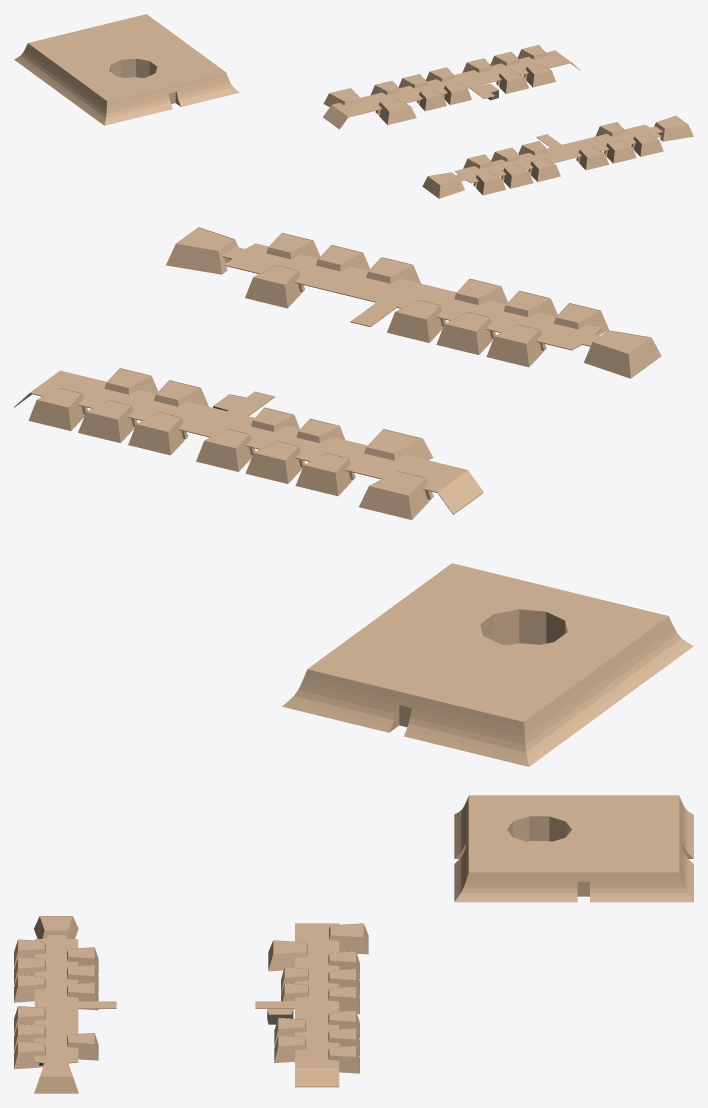
The model's file is amphis to village.gltf.
3 views of the same model, one above another, from view 1: azimuth 30°, elevation 25°; view 2: azimuth 150°, elevation 25°; view 3: azimuth 270°, elevation 25° (orthographic). The views are drawn at different scales.
Parts seen in each view (by area): view 1: village, amphiA-L, amphiM-X; view 2: village, amphiA-L, amphiM-X; view 3: village, amphiA-L, amphiM-X.
Boxes of the visible parts, x1,y1,x2,y2 form: village: (14,14,239,125); amphiA-L: (323,45,580,129); amphiM-X: (422,115,693,198); village: (282,563,693,766); amphiA-L: (14,368,483,519); amphiM-X: (166,227,661,378); village: (454,795,693,902); amphiA-L: (255,923,368,1087); amphiM-X: (14,916,116,1093).
Size of the model in its own units: 417 by 19.57 by 430.
1 material, 1 textured.
